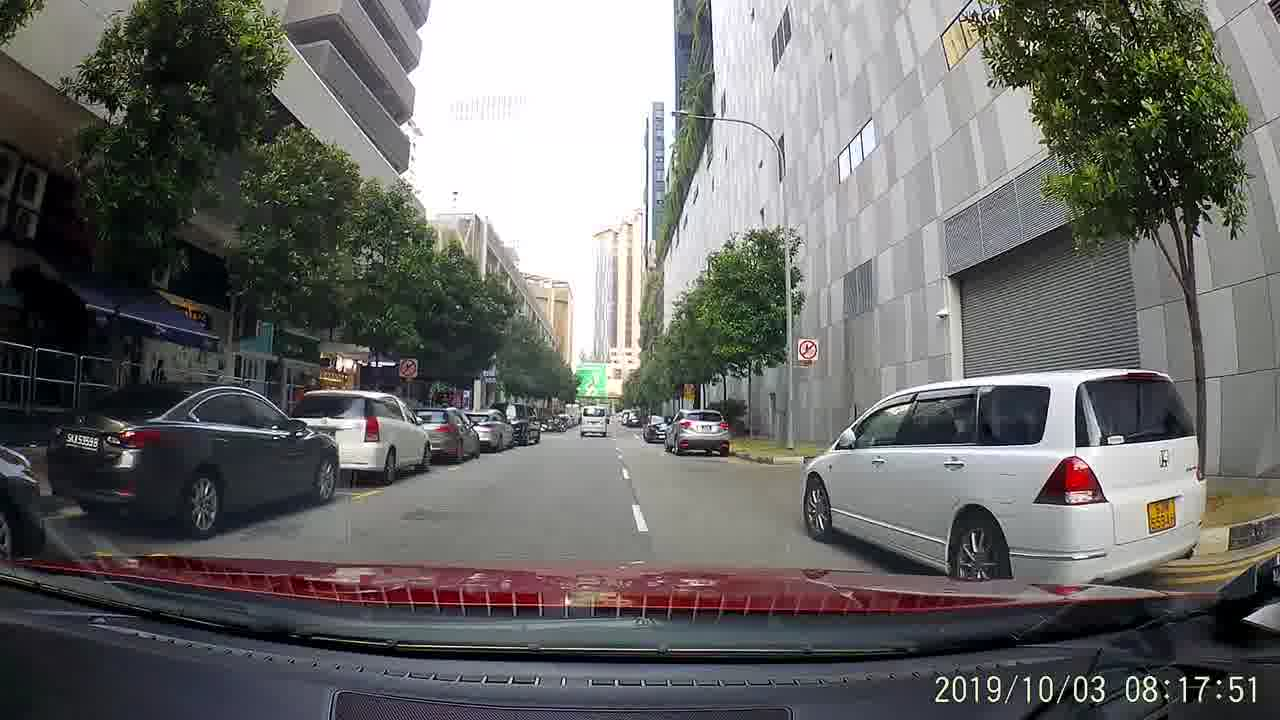car: (798, 374, 1205, 582), (51, 375, 342, 541), (285, 386, 431, 483), (413, 406, 484, 464), (663, 406, 731, 458), (469, 407, 518, 453), (495, 398, 543, 443), (642, 411, 674, 445), (624, 406, 646, 427)
